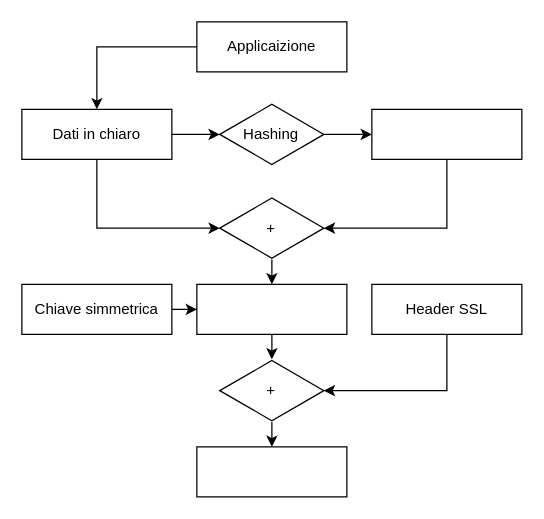
Some shapes in this 544 by 519 pixel diagram are drawn without their labels. The shapes that lost their labels are listed below. From the top down, each one's box as (x1, y1, x2, y2) in pixels, then its label:
(371, 108, 522, 159): Hash dei dati
(196, 283, 347, 334): Cifratura simmetrica
(196, 446, 347, 497): TCP
